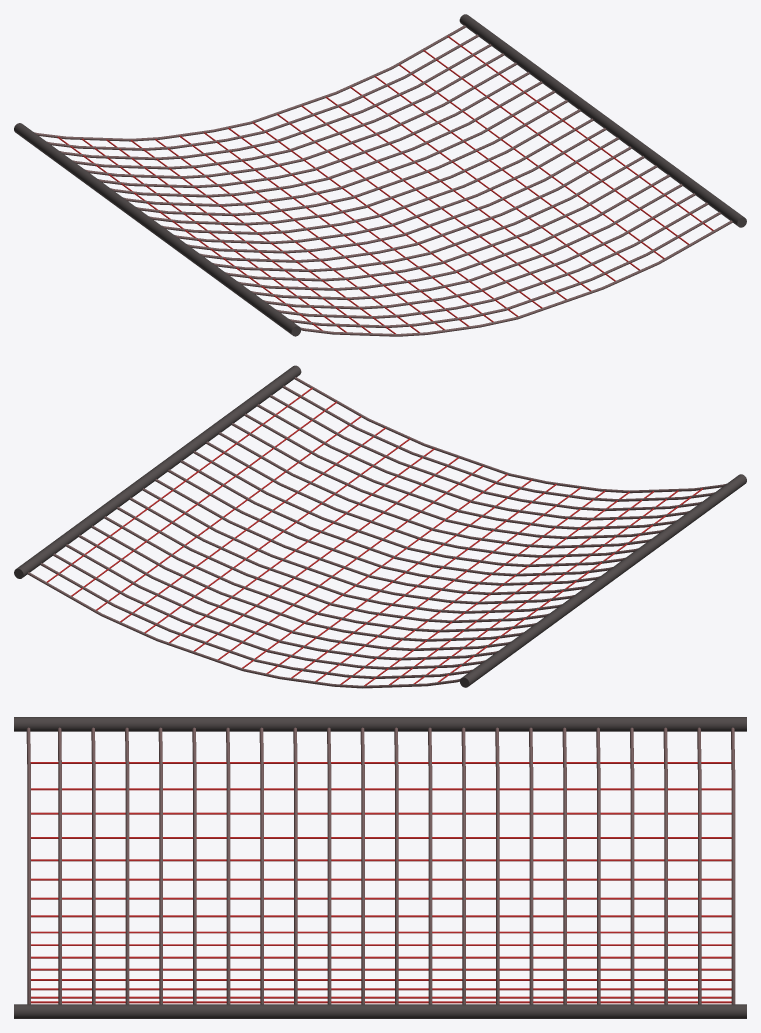
Rendered from filet_lambert_ok.fbx.
3 renders of one model, top to bottom at view 1: azimuth 30°, elevation 25°; view 2: azimuth 150°, elevation 25°; view 3: azimuth 270°, elevation 25°, orthographic. The views are drawn at different scales.
Visible parts, largest first — view 1: polySurface97; view 2: polySurface97; view 3: polySurface97.
Part boxes in pixels (bbox=[...]): polySurface97: bbox=[14, 14, 746, 336]; polySurface97: bbox=[14, 365, 746, 688]; polySurface97: bbox=[14, 717, 746, 1018].
Size of the model in its own units: 6.17 by 0.6816 by 6.52.
